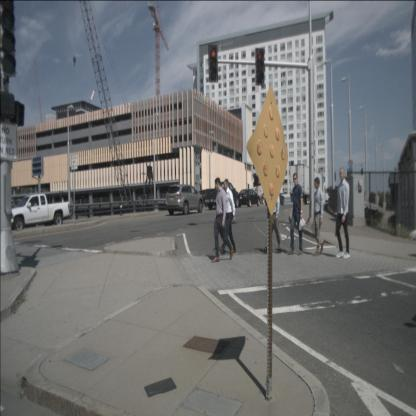human-pedestrian-adult: (212, 177, 234, 263), (286, 173, 306, 256), (262, 177, 282, 254), (335, 167, 351, 259), (220, 179, 237, 255), (312, 178, 326, 258)
vehicle-car: (166, 184, 203, 215), (238, 189, 260, 207), (264, 190, 284, 206)
vehicle-truck: (9, 193, 70, 232), (290, 164, 326, 205), (205, 181, 240, 210)
